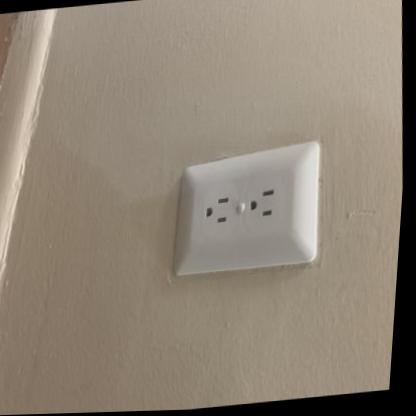OUTLET: (159, 139, 332, 284)
